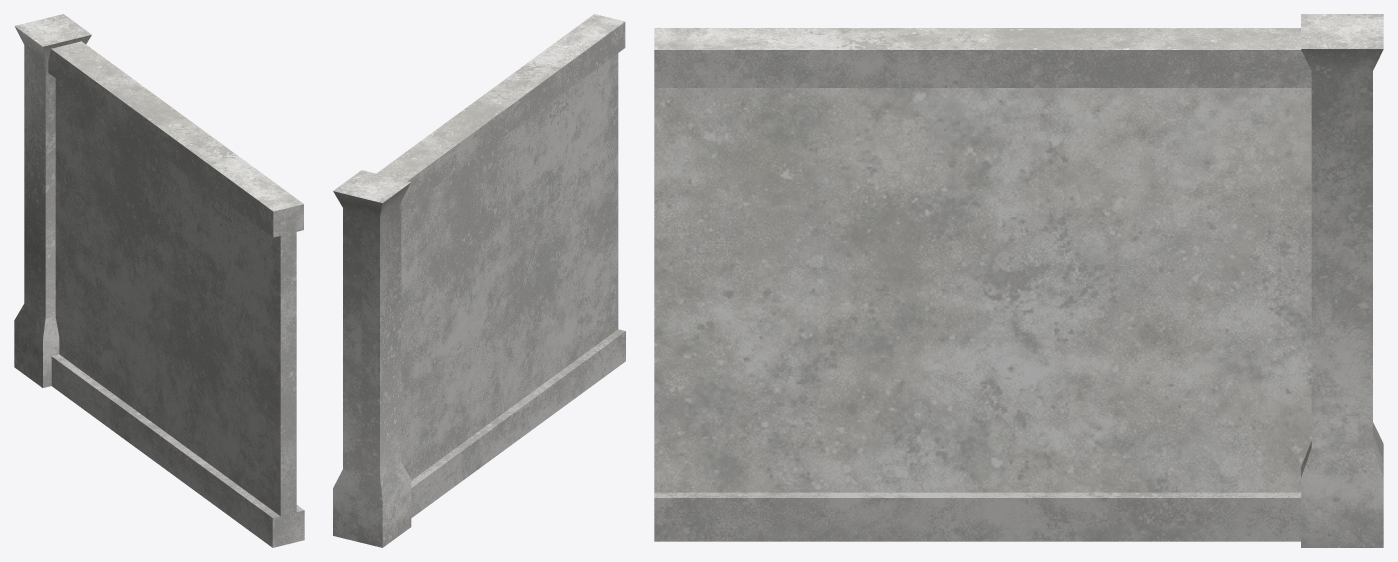
Rendered from SM_Wall.fbx.
The picture shows the model from 3 angles, left to right: view 1: azimuth 30°, elevation 25°; view 2: azimuth 150°, elevation 25°; view 3: azimuth 270°, elevation 25°; orthographic projection. The views are drawn at different scales.
Visible parts, largest first — view 1: SM_Wall; view 2: SM_Wall; view 3: SM_Wall.
Part boxes in pixels (x1,y1,x2,y2): SM_Wall: [14, 14, 304, 547]; SM_Wall: [333, 14, 625, 547]; SM_Wall: [654, 14, 1383, 547].
Bounding box in the file's own units: 60.27 × 400 × 530.
